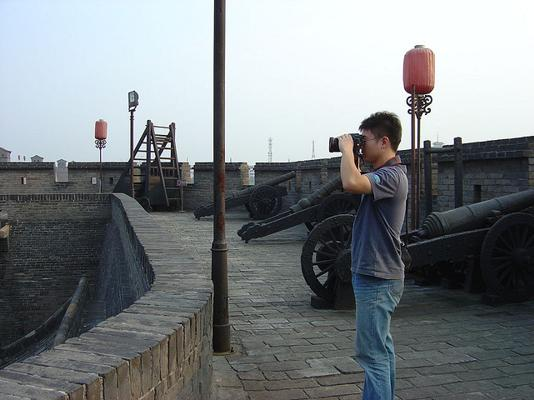person: (340, 111, 410, 398)
